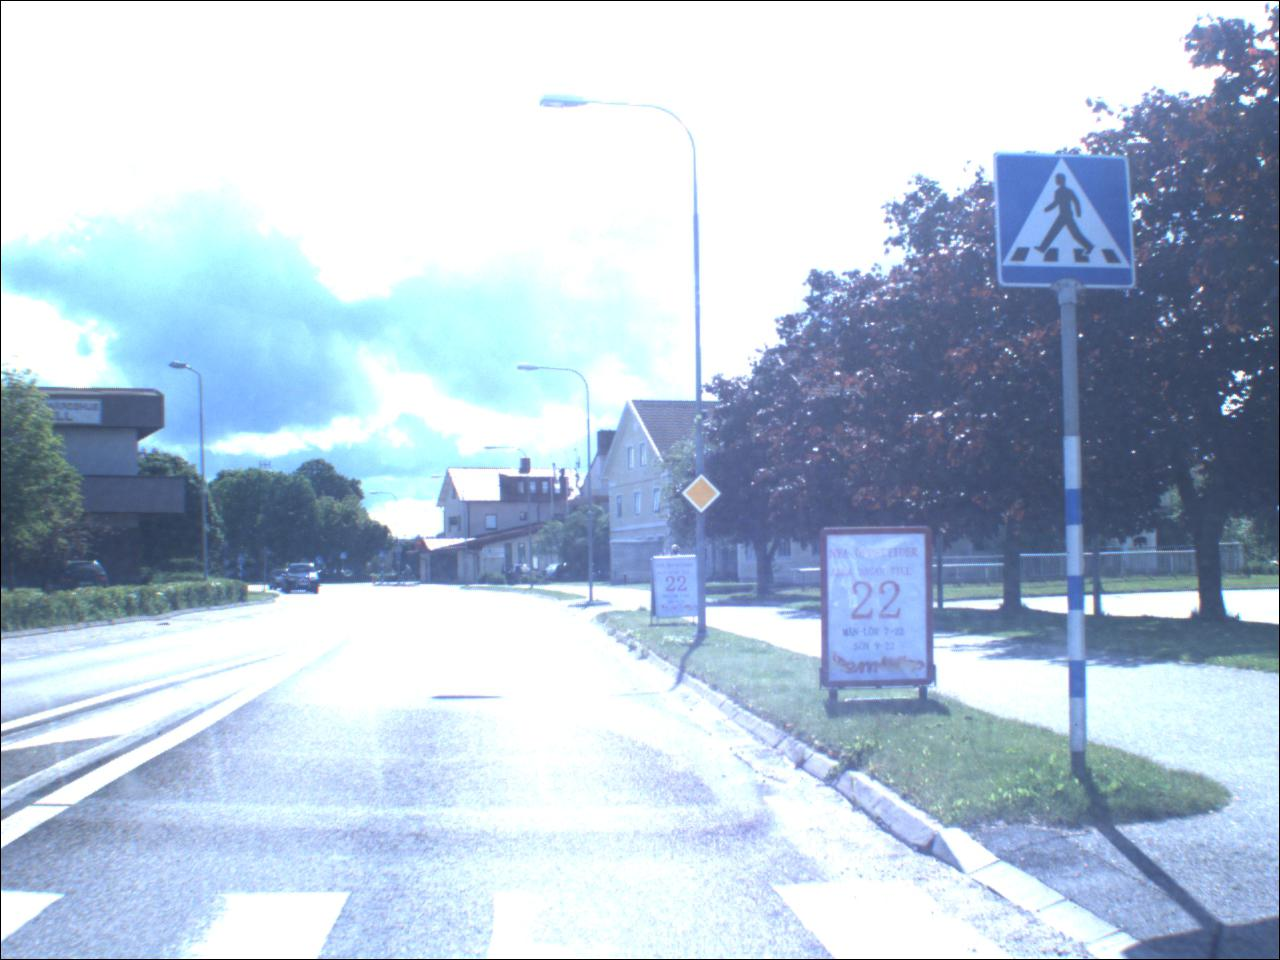PEDESTRIAN_CROSSING: (998, 155, 1138, 291)
PRIORITY_ROAD: (681, 475, 725, 517)
